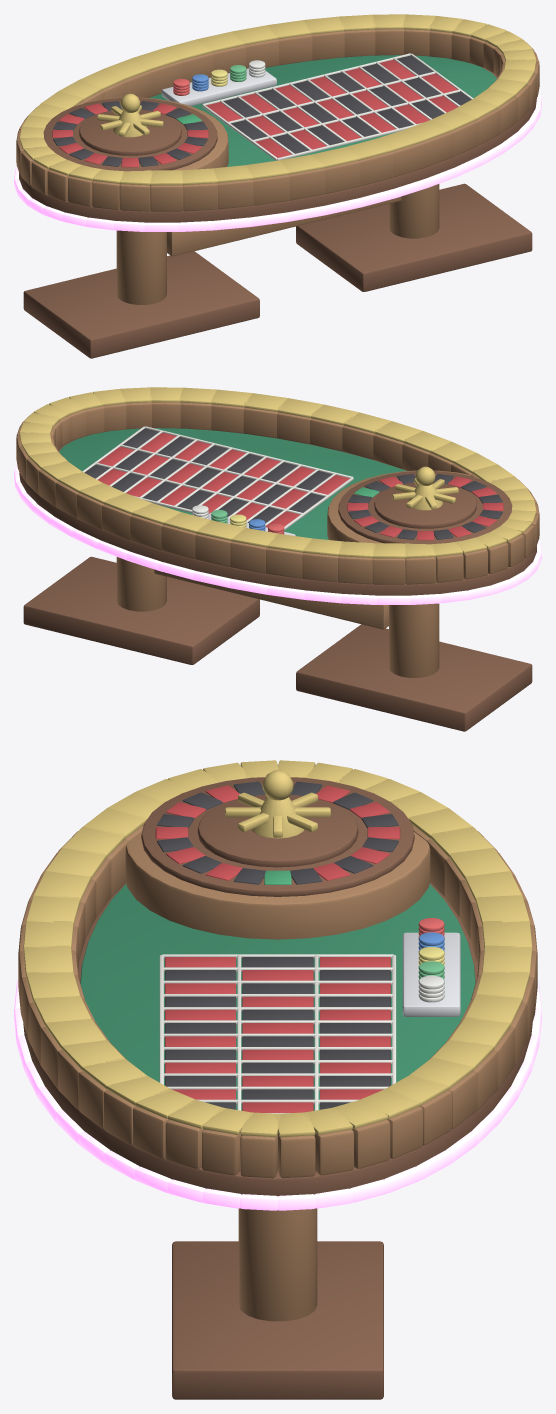
File: th14_roulettetisch.glb
3 views of the same model, one above another, from view 1: azimuth 30°, elevation 25°; view 2: azimuth 150°, elevation 25°; view 3: azimuth 270°, elevation 25° (orthographic). The views are drawn at different scales.
Parts seen in each view (by area): view 1: Cube, Cube.001, RlPlatte, RlFilz, Cylinder, Cylinder.003, Cylinder.004, Cube.002, Cylinder.001, Cube.216, Cylinder.002, Cube.077 (+60 smaller); view 2: Cube, Cube.001, RlFilz, RlPlatte, Cylinder, Cylinder.003, Cylinder.004, Cube.002, Cylinder.001, Cylinder.002, Cube.060, Cube.059 (+58 smaller); view 3: Cube.001, RlFilz, Cylinder.002, RlPlatte, Cylinder.001, Cylinder.003, Cylinder.004, Cube.216, Cube.048, Cube.089, Cube.047, Cube.090 (+92 smaller).
Part boxes in pixels (x1,y1,x2,y2): Cube: (23,251,259,358); Cube.001: (296,183,532,291); RlPlatte: (19,63,536,222); RlFilz: (149,55,496,166); Cylinder: (116,230,166,304); Cylinder.003: (43,98,217,171); Cylinder.004: (79,109,181,155); Cube.002: (167,196,401,256); Cylinder.001: (389,184,439,238); Cube.216: (161,68,276,106); Cylinder.002: (84,97,228,170); Cube.077: (253,174,289,205); Cube: (296,624,532,731); Cube.001: (23,556,259,664); RlFilz: (59,428,406,539); RlPlatte: (19,436,536,595); Cylinder: (389,603,439,677); Cylinder.003: (338,471,512,544); Cylinder.004: (374,482,476,528); Cube.002: (154,569,388,629); Cylinder.001: (116,557,166,611); Cylinder.002: (327,470,471,543); Cube.060: (266,547,302,578); Cube.059: (230,541,266,573); Cube.001: (172,1241,383,1399); RlFilz: (80,884,475,1110); Cylinder.002: (125,832,430,939); RlPlatte: (23,883,532,1196); Cylinder.001: (238,1208,317,1321); Cylinder.003: (141,777,414,896); Cylinder.004: (197,794,358,867); Cube.216: (402,932,460,1016); Cube.048: (314,1129,353,1175); Cube.089: (202,1129,241,1175); Cube.047: (278,1133,315,1178); Cube.090: (240,1133,277,1178).
Bounding box in the file's own units: 2.64 × 1.12 × 1.55.
